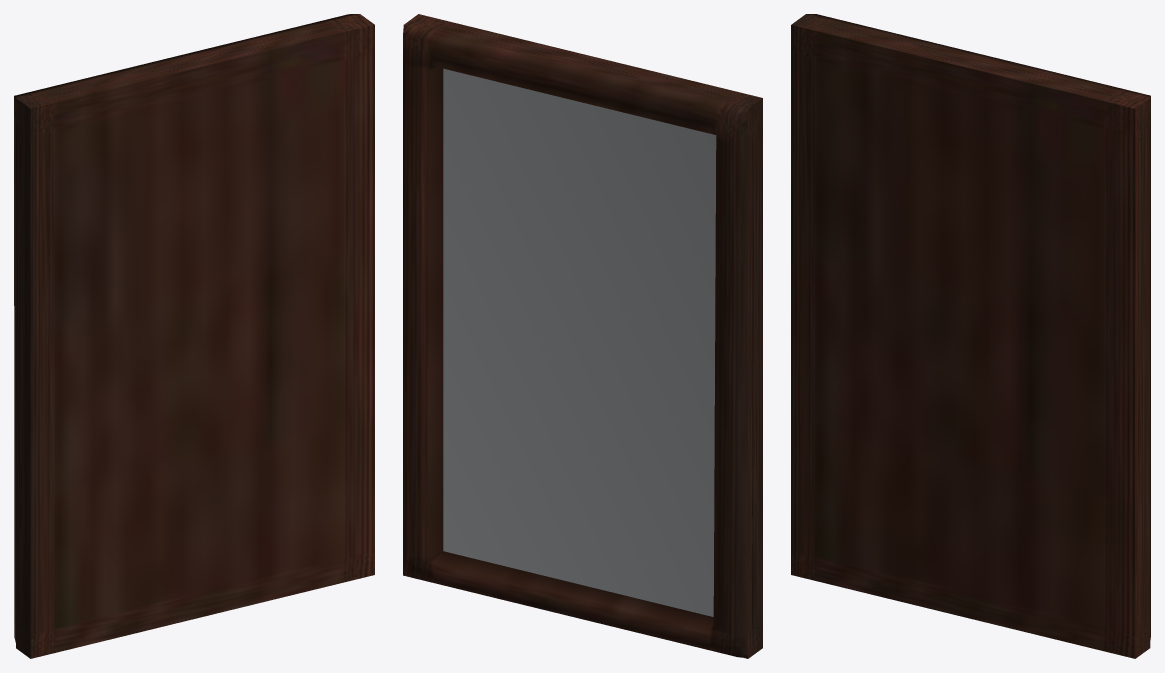
File: mirror.fbx
3 renders of one model, left to right at view 1: azimuth 30°, elevation 25°; view 2: azimuth 150°, elevation 25°; view 3: azimuth 330°, elevation 25°, orthographic.
Visible parts, largest first — view 1: pCube1; view 2: pCube1; view 3: pCube1.
Part boxes in pixels (left/top/right/bottom): pCube1: left=14, top=14, right=374, bottom=658; pCube1: left=403, top=14, right=762, bottom=658; pCube1: left=791, top=14, right=1150, bottom=658.
Bounding box in the file's own units: 10 × 15.27 × 1.05.
